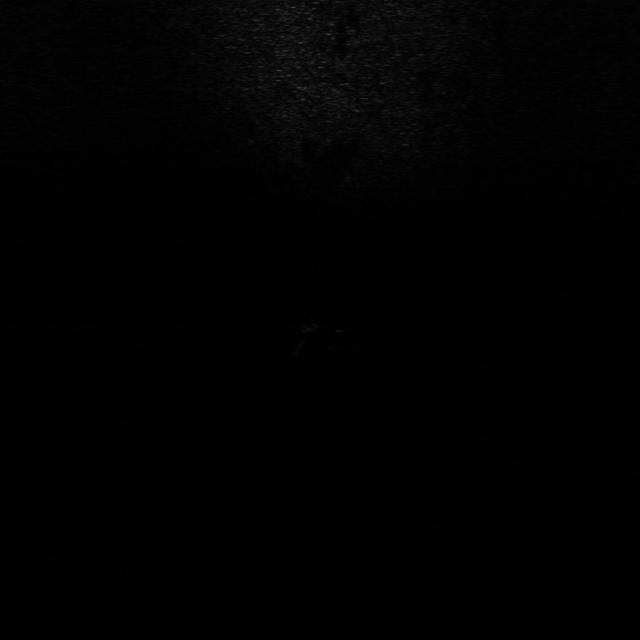human body: (299, 314, 363, 358)
